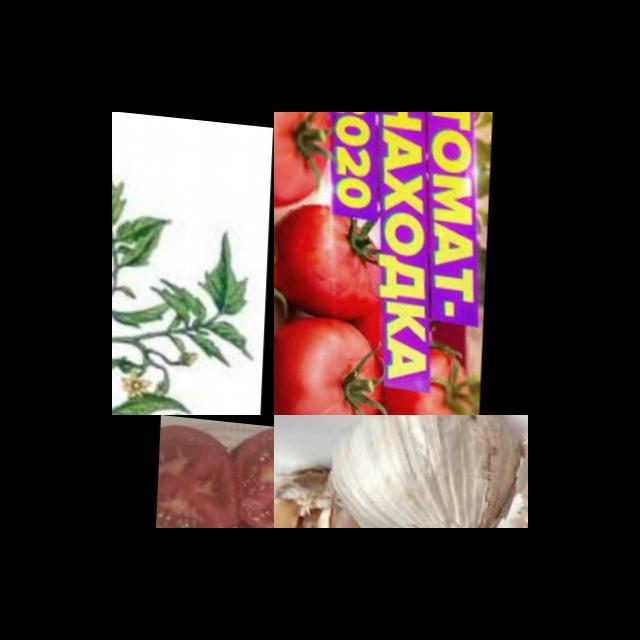garlic: (315, 415, 528, 528), (274, 453, 407, 528)
tomato: (274, 196, 391, 320), (274, 310, 393, 415), (156, 422, 242, 528), (399, 337, 481, 415), (274, 112, 338, 202), (232, 419, 274, 528), (274, 211, 282, 347)
